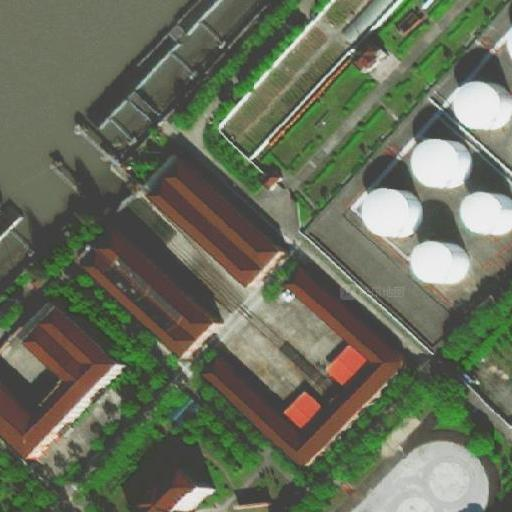building: (203, 268, 406, 470), (1, 291, 130, 459), (306, 212, 457, 352), (145, 152, 285, 285), (84, 232, 221, 357), (341, 169, 430, 247), (445, 80, 511, 174), (96, 86, 160, 150), (141, 461, 221, 511), (407, 137, 469, 194), (462, 194, 511, 237), (344, 36, 391, 76), (426, 242, 459, 275)
